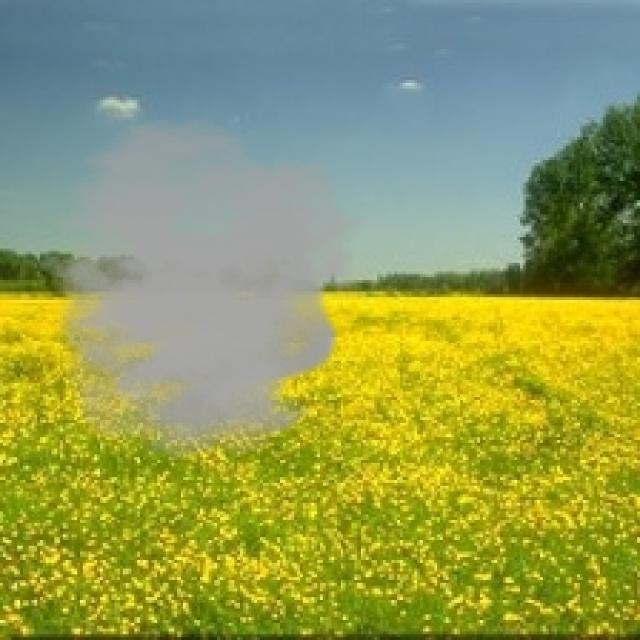smoke: (14, 117, 369, 460)
